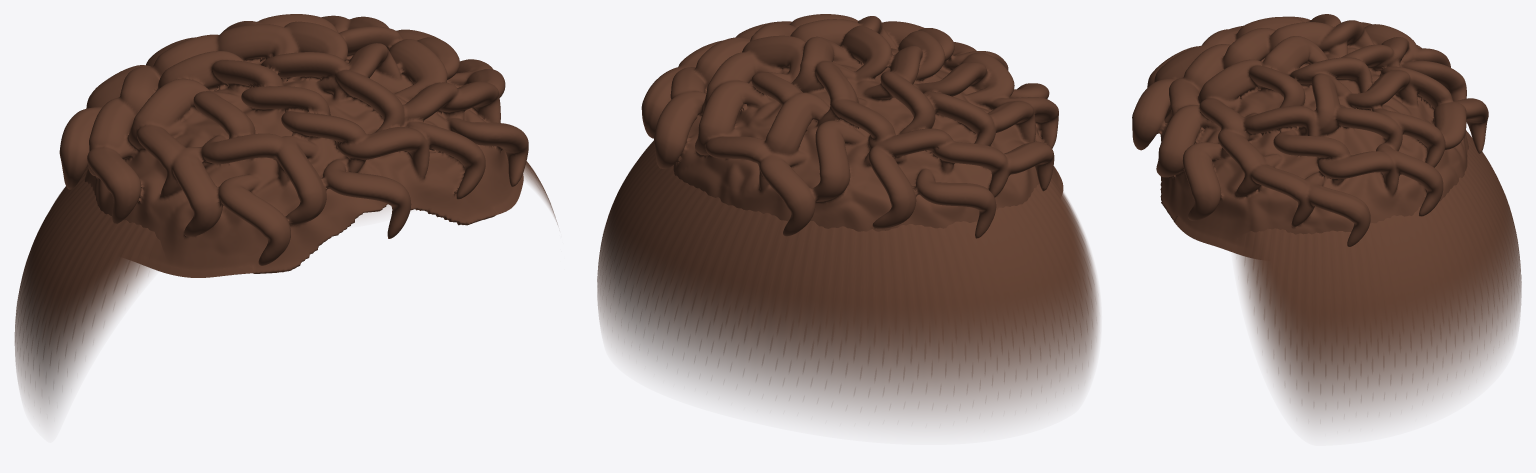
The model's file is Masculine-curly-top-hair257.glb.
The picture shows the model from 3 angles, left to right: view 1: azimuth 30°, elevation 25°; view 2: azimuth 150°, elevation 25°; view 3: azimuth 270°, elevation 25°; orthographic projection. The views are drawn at different scales.
Parts seen in each view (by area): view 1: 226 hair / Hair252 / sculpted curl groups, 226 hair / Hair257 / smooth side fade, 226 hair / Hair257 / directional fade marks; view 2: 226 hair / Hair257 / smooth side fade, 226 hair / Hair252 / sculpted curl groups, 226 hair / Hair257 / directional fade marks; view 3: 226 hair / Hair252 / sculpted curl groups, 226 hair / Hair257 / smooth side fade, 226 hair / Hair257 / directional fade marks.
Boxes of the visible parts, x1,y1,x2,y2 form: 226 hair / Hair252 / sculpted curl groups: [59, 14, 528, 277]; 226 hair / Hair257 / smooth side fade: [15, 161, 557, 419]; 226 hair / Hair257 / directional fade marks: [16, 162, 534, 370]; 226 hair / Hair257 / smooth side fade: [597, 141, 1099, 424]; 226 hair / Hair252 / sculpted curl groups: [641, 14, 1063, 238]; 226 hair / Hair257 / directional fade marks: [602, 141, 1091, 393]; 226 hair / Hair252 / sculpted curl groups: [1132, 14, 1488, 258]; 226 hair / Hair257 / smooth side fade: [1234, 130, 1521, 426]; 226 hair / Hair257 / directional fade marks: [1244, 130, 1518, 393].
Size of the model in its own units: 0.9723 by 0.665 by 0.7499.
